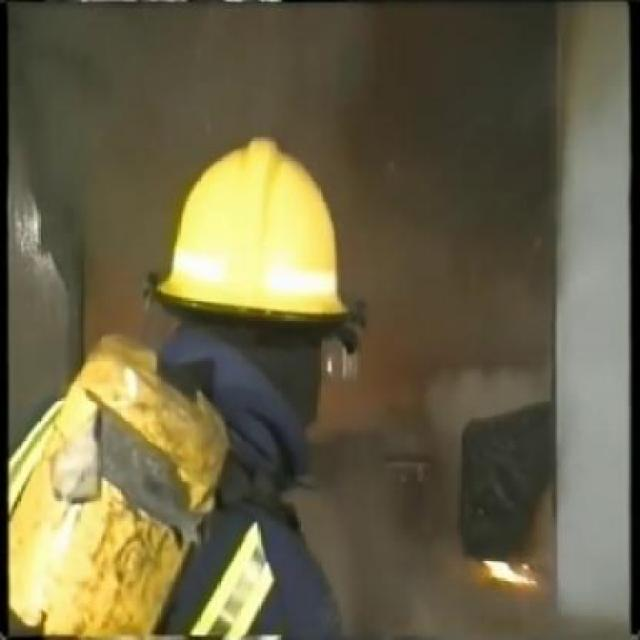fire: (482, 544, 538, 600)
smoke: (340, 21, 558, 640)
